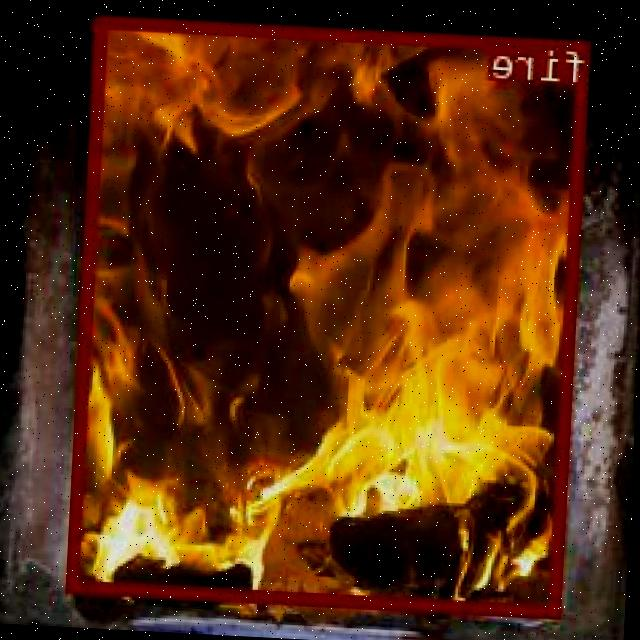fire: (70, 13, 592, 616)
